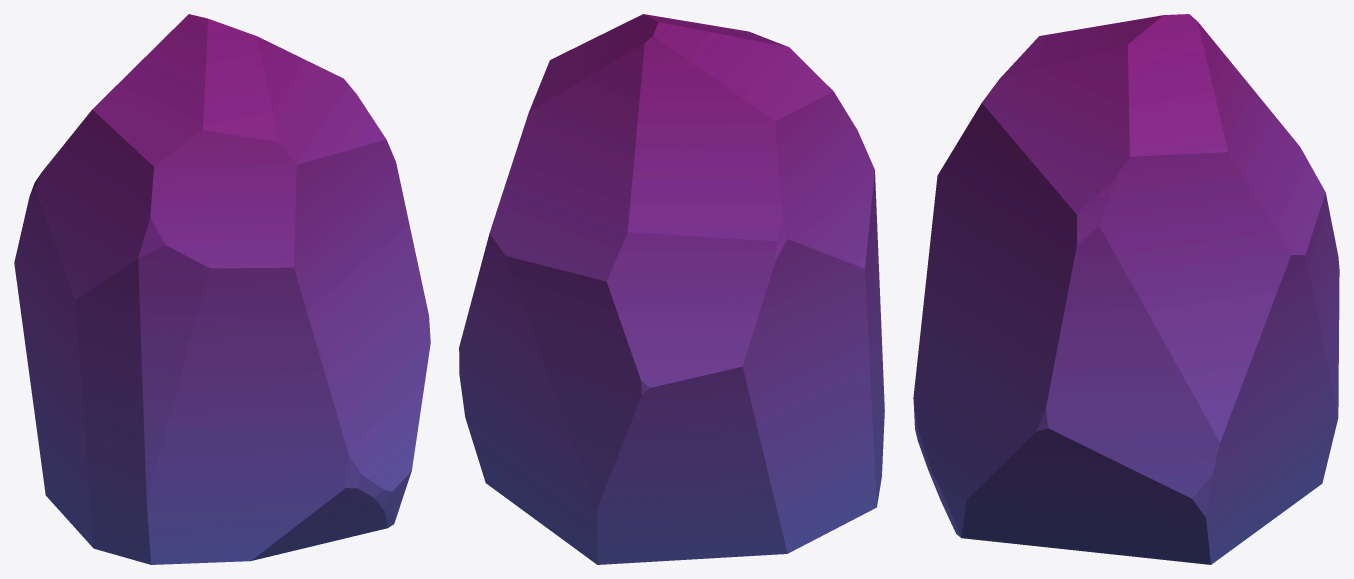
Rendered from rocatopacio_09.fbx.
3 renders of one model, left to right at view 1: azimuth 30°, elevation 25°; view 2: azimuth 150°, elevation 25°; view 3: azimuth 270°, elevation 25°, orthographic. The views are drawn at different scales.
Parts seen in each view (by area): view 1: cueva05.001; view 2: cueva05.001; view 3: cueva05.001.
Part boxes in pixels (box(x1,y1,x2,y2)): cueva05.001: box(14, 14, 430, 564); cueva05.001: box(459, 14, 884, 564); cueva05.001: box(913, 14, 1339, 564).
Size of the model in its own units: 621 by 810 by 655.
Materials: 1 (1 with a texture image).
